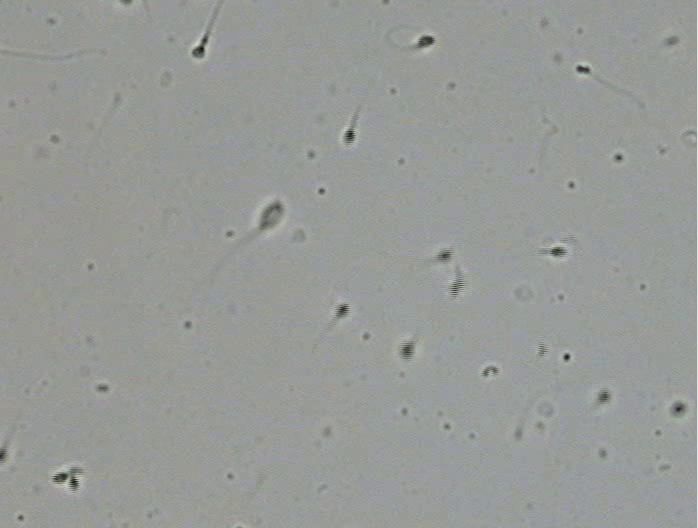S: (259, 201, 283, 228), (450, 276, 464, 298), (398, 342, 413, 360), (335, 303, 350, 319), (343, 128, 356, 146), (671, 402, 687, 416), (67, 476, 80, 493), (418, 35, 435, 48), (50, 472, 68, 484), (437, 250, 453, 263), (598, 388, 611, 404), (550, 246, 568, 257), (192, 46, 205, 58), (576, 64, 591, 74), (1, 447, 6, 462)
